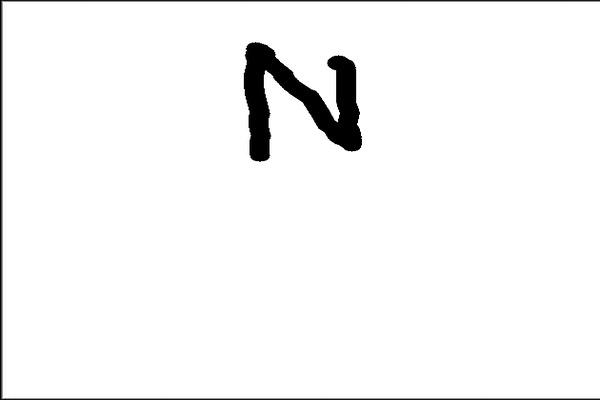N: (234, 32, 370, 166)
